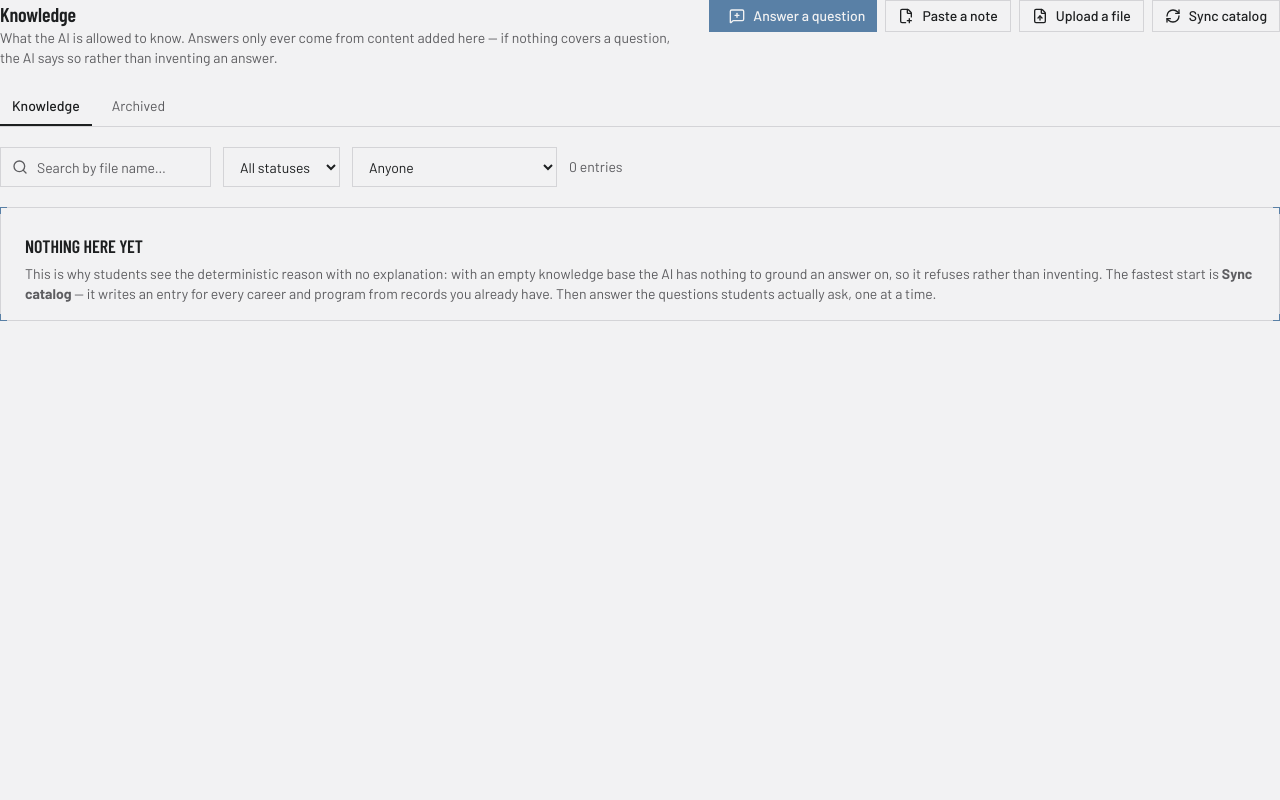
KnowledgeListPage › offers an admin the catalog sync and the author filter
The image size is (1280, 800).
Expected: the dropdown named "who added the entry" is shown, [352,147,557,187]
Click the button "Sync catalog".
click(1216, 16)  # box [1152,0,1279,32]
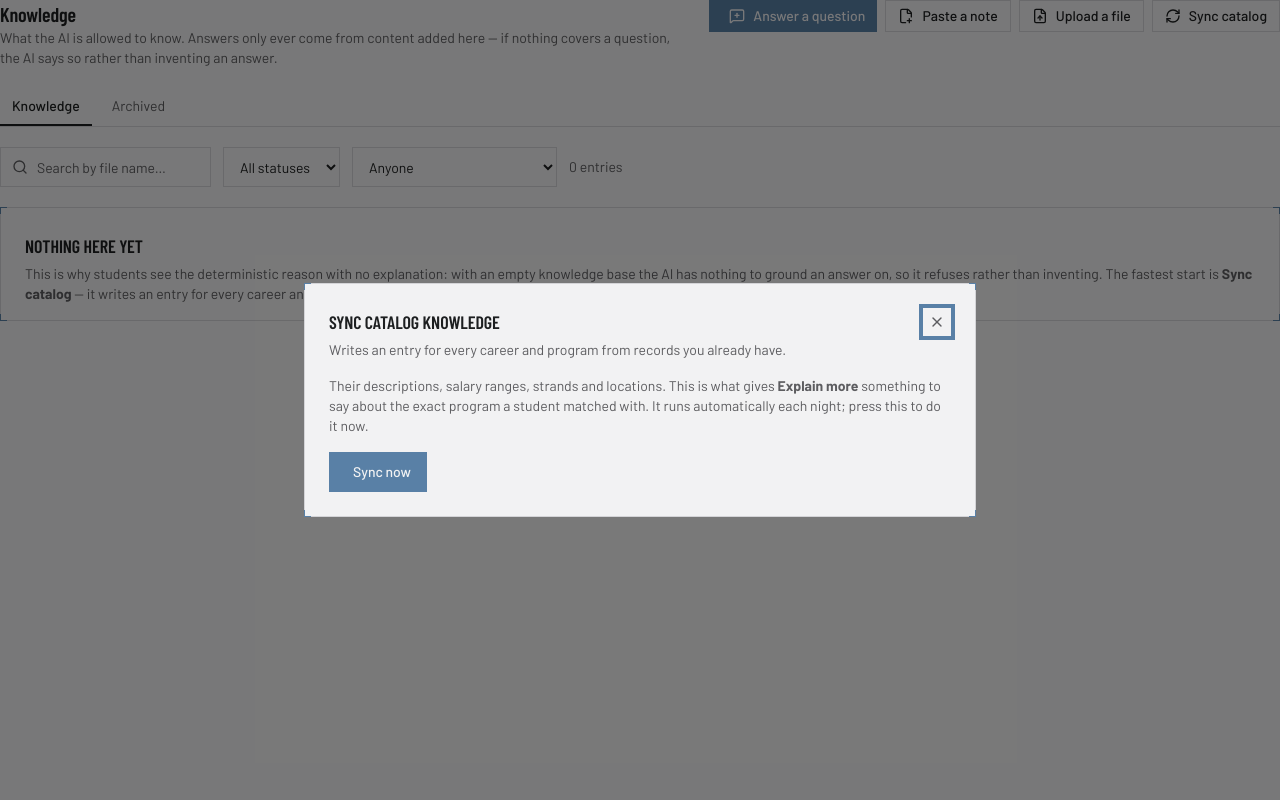
Expected: the button "Sync now" is shown, [329,452,427,492]
